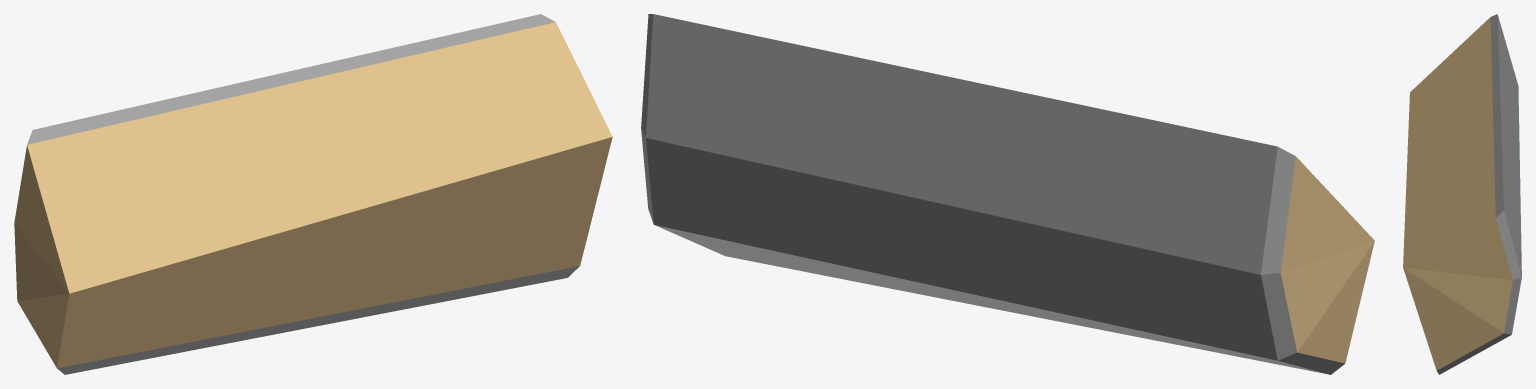
The model's file is PT_Log_06.fbx.
The picture shows the model from 3 angles, left to right: view 1: azimuth 30°, elevation 25°; view 2: azimuth 150°, elevation 25°; view 3: azimuth 270°, elevation 25°; orthographic projection. The views are drawn at different scales.
Parts seen in each view (by area): view 1: PT_Log_06; view 2: PT_Log_06; view 3: PT_Log_06.
Boxes of the visible parts, left/top/right/bottom form: PT_Log_06: left=14, top=14, right=612, bottom=374; PT_Log_06: left=641, top=14, right=1374, bottom=374; PT_Log_06: left=1403, top=14, right=1521, bottom=374.
Bounding box in the file's own units: 47.49 × 20.06 × 12.02.
1 material, 1 textured.
